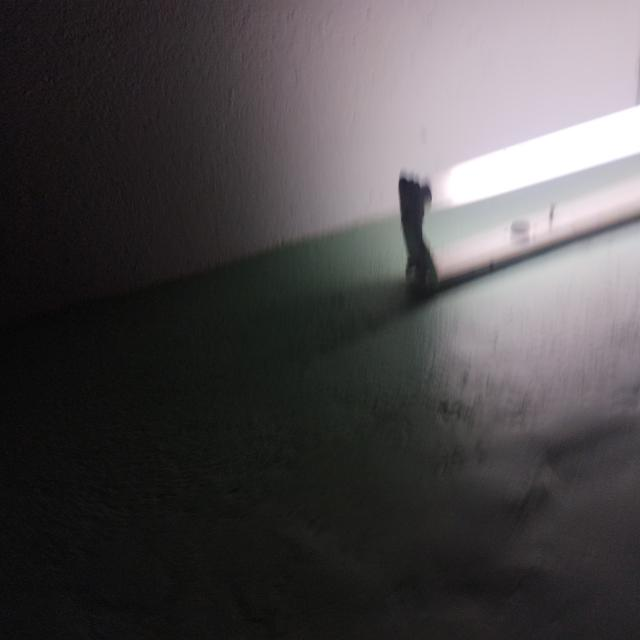tubelight_on: (386, 94, 638, 303)
